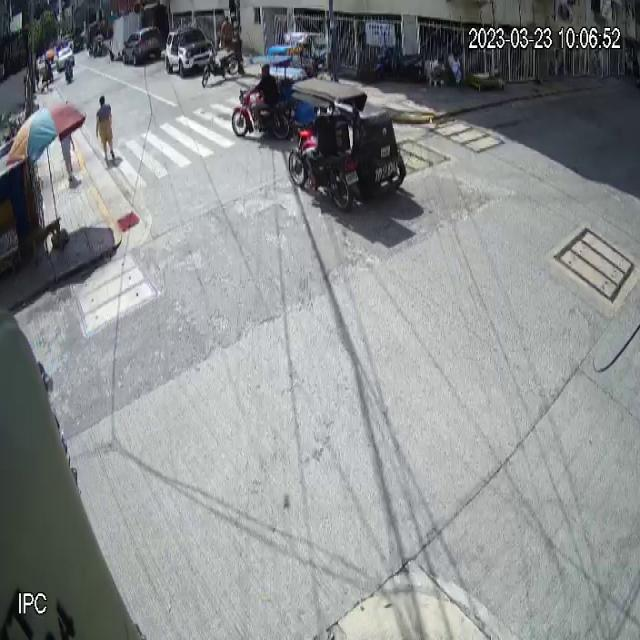Tricycle: (288, 78, 407, 214), (232, 52, 308, 140)
